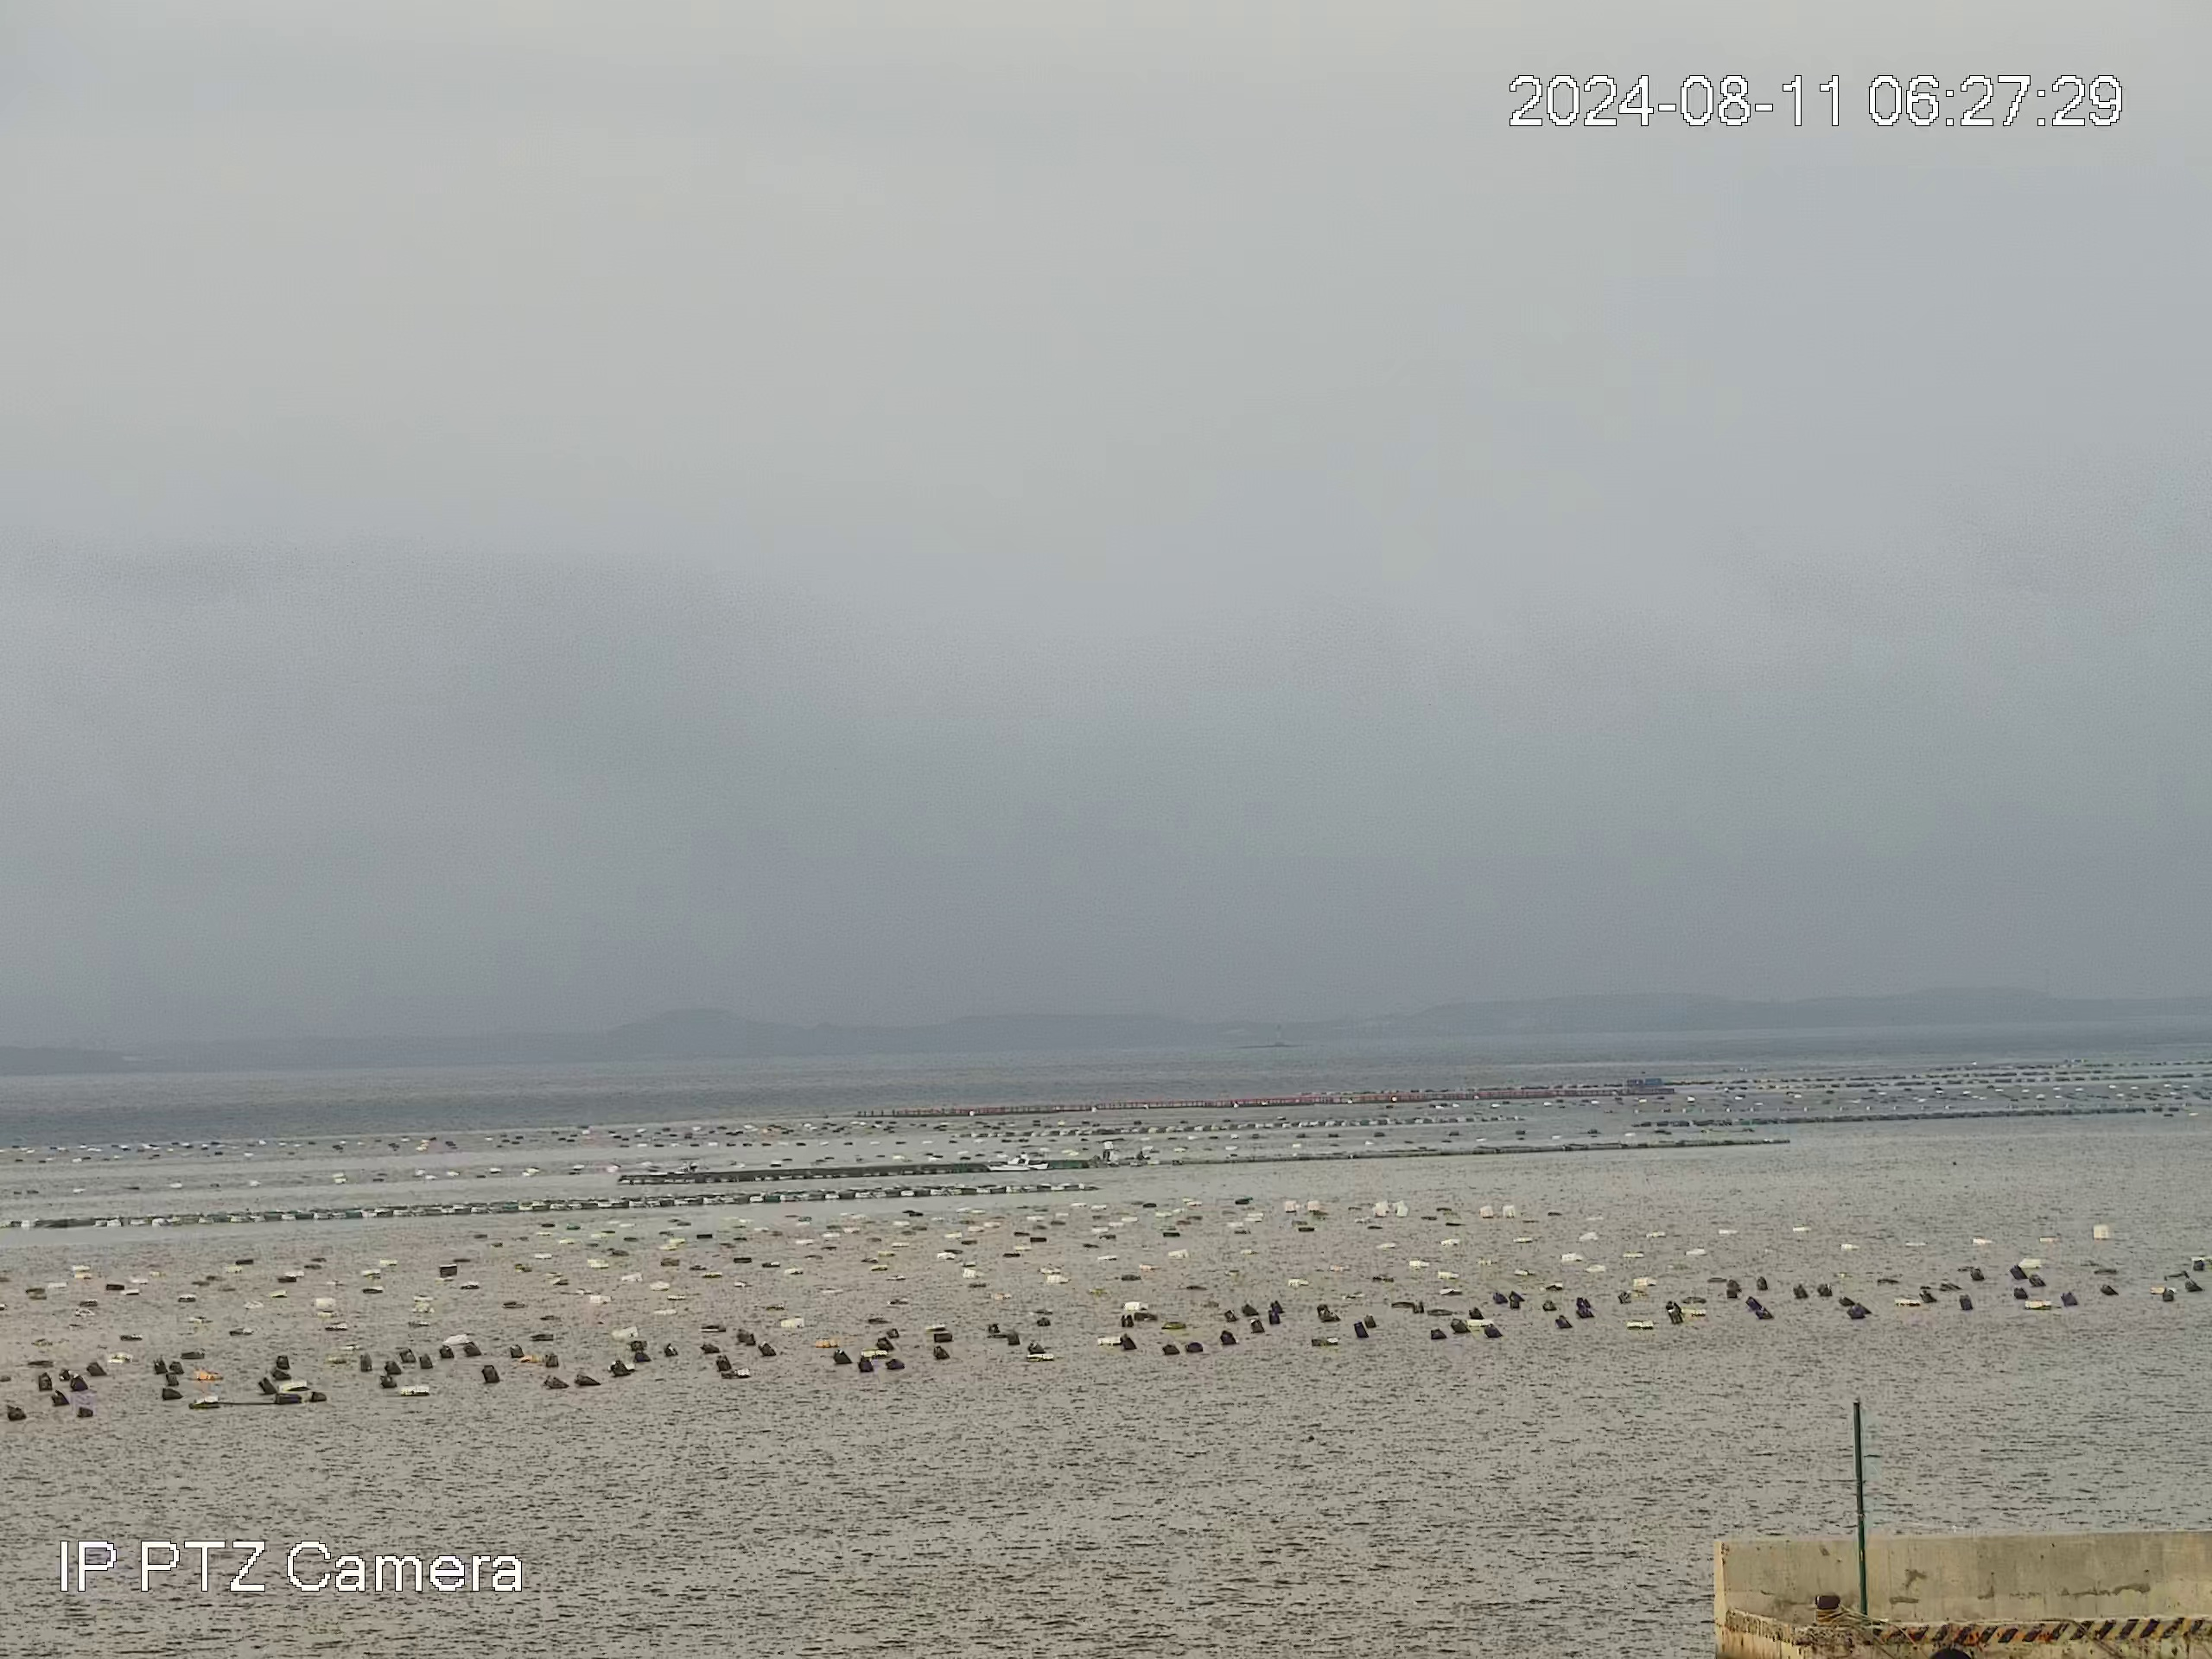boat: (984, 1150, 1050, 1173)
